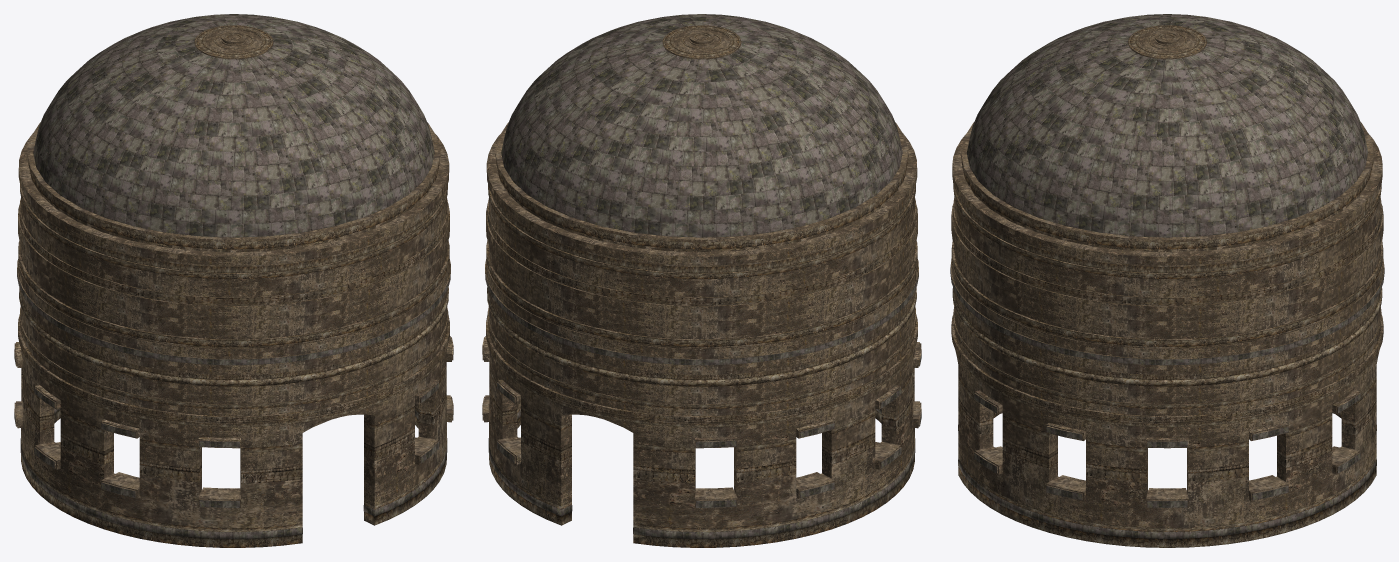
Rendered from materials_5_building_19.fbx.
3 views of the same model, side by side, from view 1: azimuth 30°, elevation 25°; view 2: azimuth 150°, elevation 25°; view 3: azimuth 270°, elevation 25° (orthographic).
Parts seen in each view (by area): view 1: materials_5_building_19; view 2: materials_5_building_19; view 3: materials_5_building_19.
Boxes of the visible parts, bbox=[...] form: materials_5_building_19: bbox=[14, 14, 453, 547]; materials_5_building_19: bbox=[482, 14, 921, 547]; materials_5_building_19: bbox=[950, 14, 1384, 547].
Size of the model in its own units: 696 by 736 by 688.
